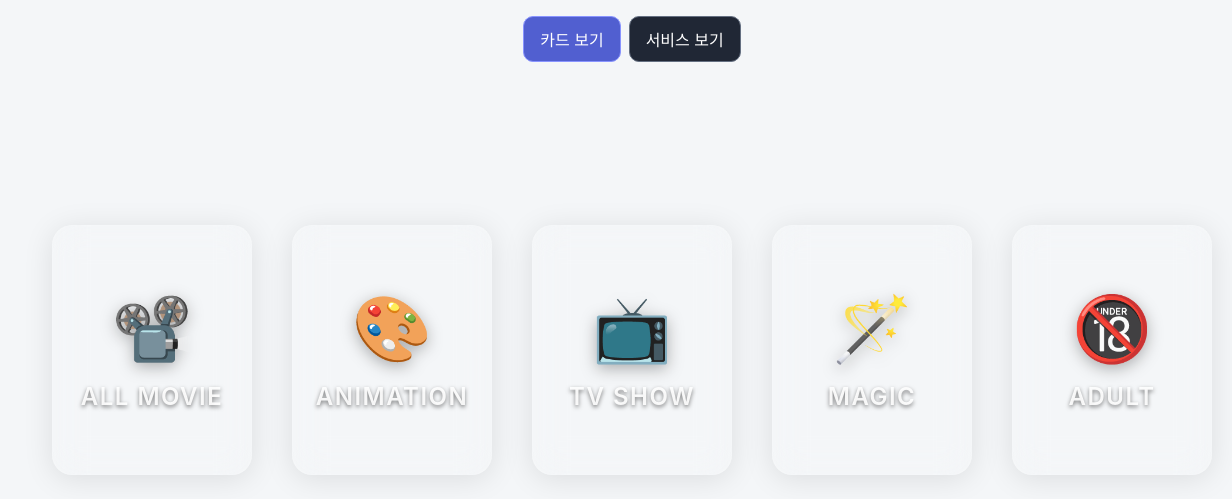
Test: legacy home is default and service preference persists
Check: the heading "ALL Movie" is shown, box [81,382,223,411]
Click the button "서비스 보기". click: [685, 39]
box: [629,16,741,62]
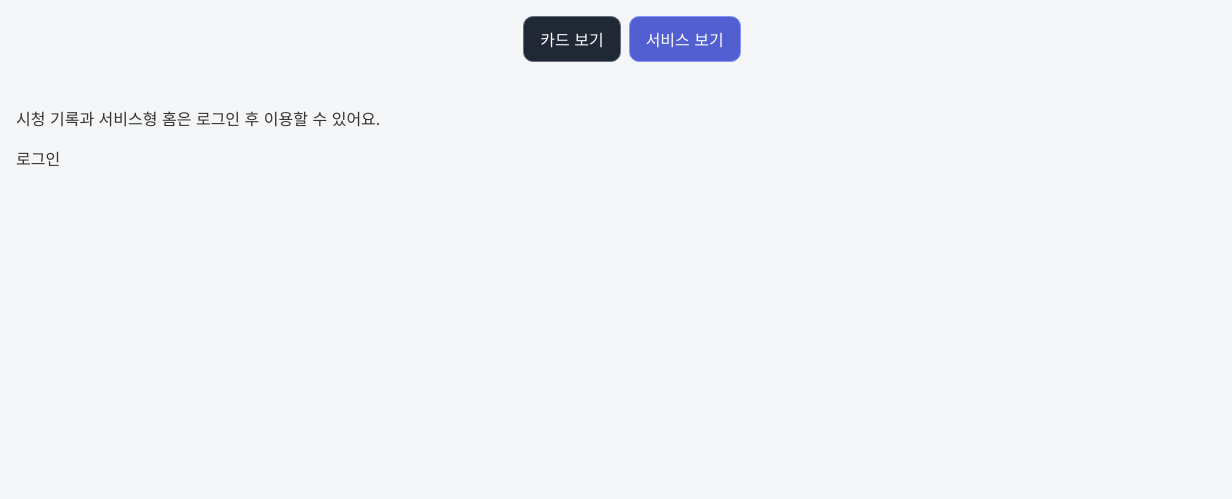
Check: the link "로그인" is shown, box [16,149,60,169]
